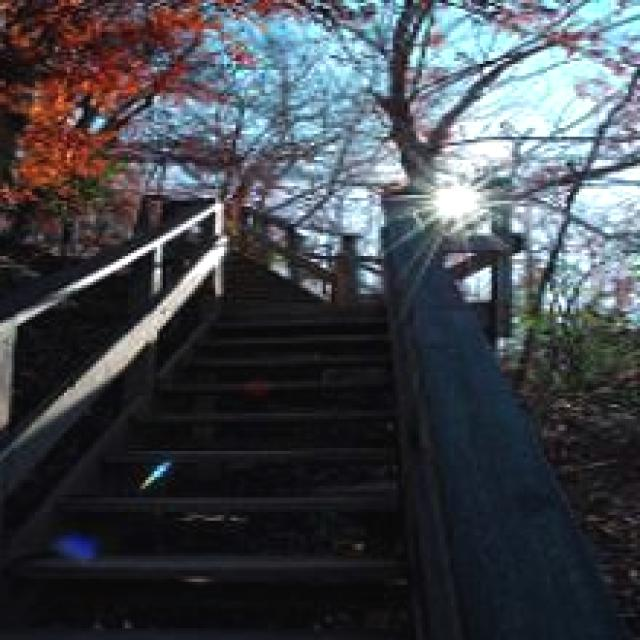upstair: (39, 295, 414, 586)
